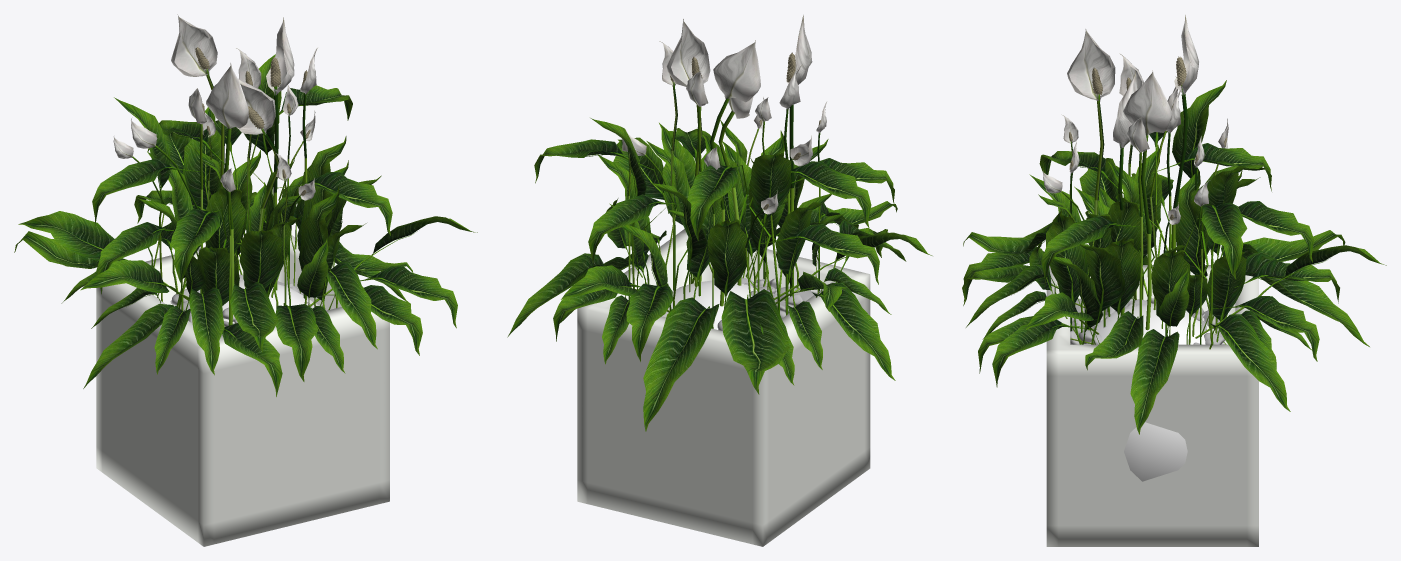
Rendered from spathiphyllum.glb.
3 renders of one model, left to right at view 1: azimuth 30°, elevation 25°; view 2: azimuth 150°, elevation 25°; view 3: azimuth 270°, elevation 25°, orthographic.
Parts seen in each view (by area): view 1: a pot, leaf, flower, stamens, big soil; view 2: a pot, leaf, flower, big soil, BeachPebbles; view 3: leaf, a pot, flower, big soil, BeachPebbles, stamens.
Boxes of the visible parts, bbox=[...] form: a pot: bbox=[96, 235, 389, 546]; leaf: bbox=[14, 54, 477, 396]; flower: bbox=[131, 14, 317, 325]; stamens: bbox=[155, 47, 310, 195]; big soil: bbox=[189, 279, 318, 323]; a pot: bbox=[577, 229, 870, 546]; leaf: bbox=[507, 118, 932, 431]; flower: bbox=[622, 15, 826, 313]; big soil: bbox=[664, 280, 760, 329]; BeachPebbles: bbox=[662, 278, 816, 331]; leaf: bbox=[962, 80, 1386, 434]; a pot: bbox=[1046, 265, 1258, 546]; flower: bbox=[1042, 15, 1210, 344]; big soil: bbox=[1081, 303, 1227, 481]; BeachPebbles: bbox=[1070, 298, 1225, 344]; stamens: bbox=[1061, 56, 1201, 219].
Bounding box in the file's own units: 1.13 × 1.43 × 1.18.
Materials: 5 (1 with a texture image).
